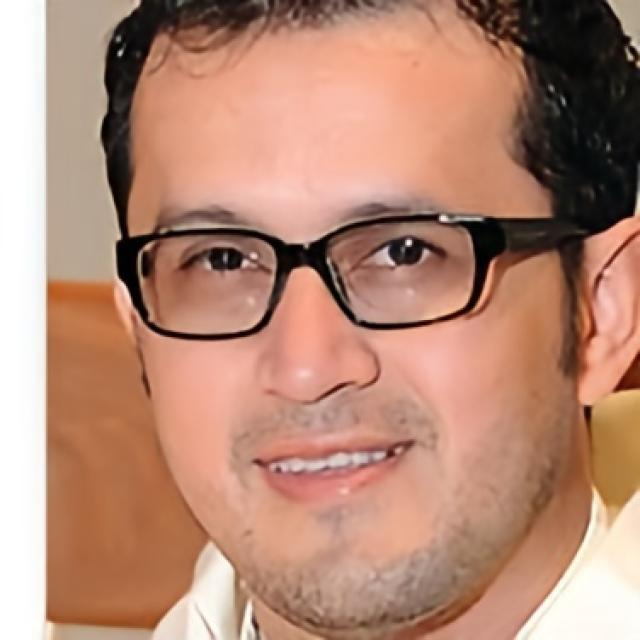content: (124, 8, 578, 640)
